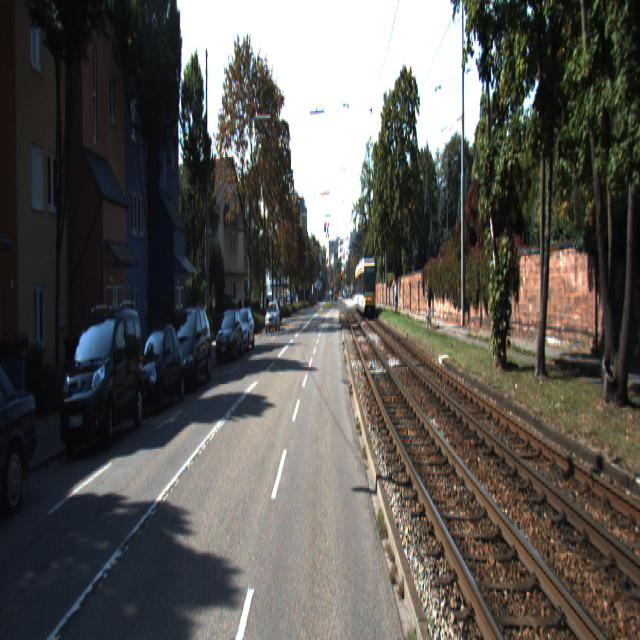Car: (57, 300, 146, 461), (0, 342, 44, 534), (130, 323, 186, 419), (165, 304, 212, 396), (214, 311, 243, 368), (354, 256, 377, 317), (232, 310, 254, 358)
